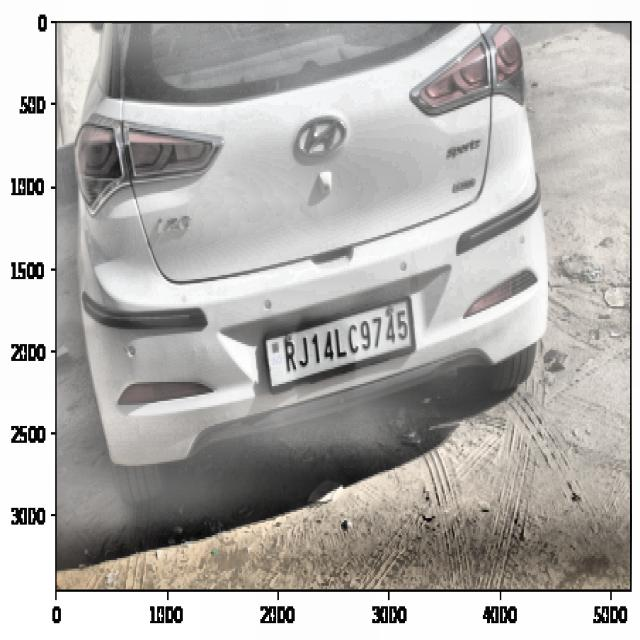license_plate: (278, 304, 412, 377)
